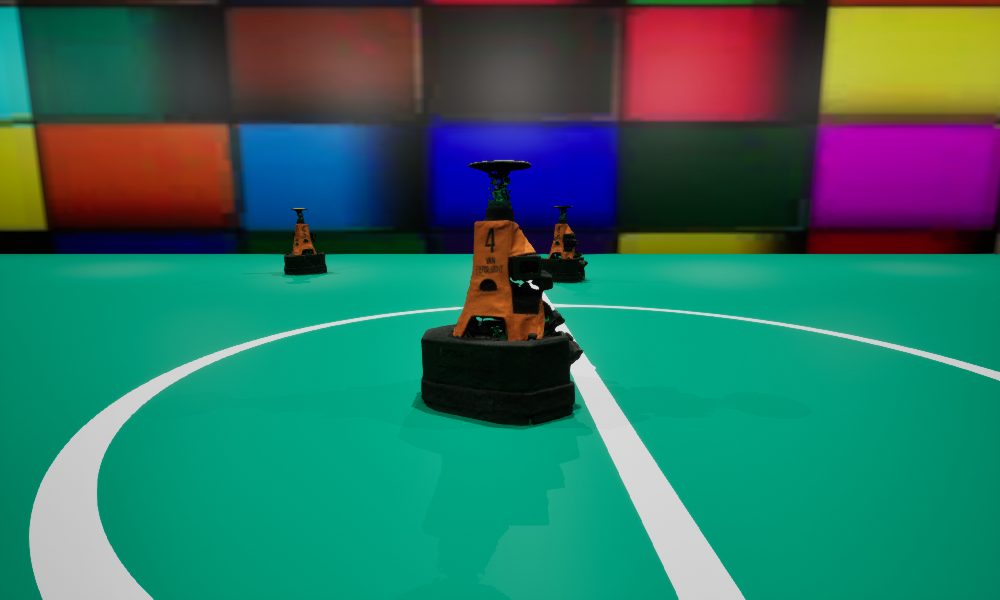0 orange robot TechUnited: (421, 160, 583, 425), (541, 206, 587, 282), (284, 208, 326, 274)
